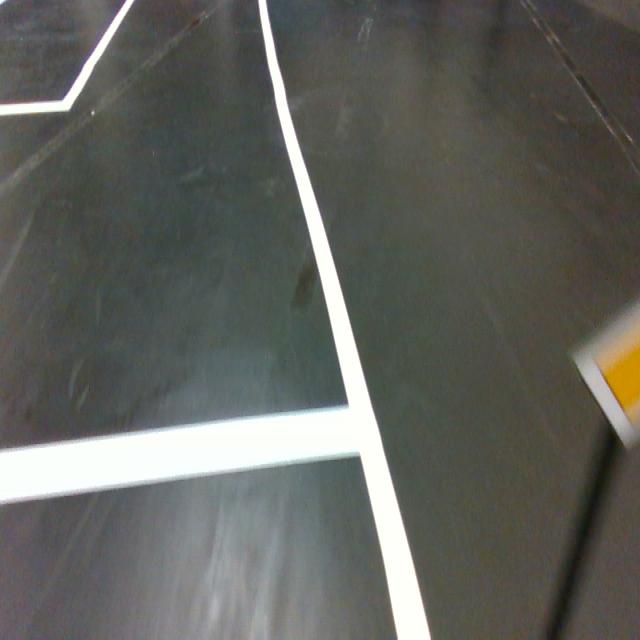priority-sign: (568, 292, 640, 454)
